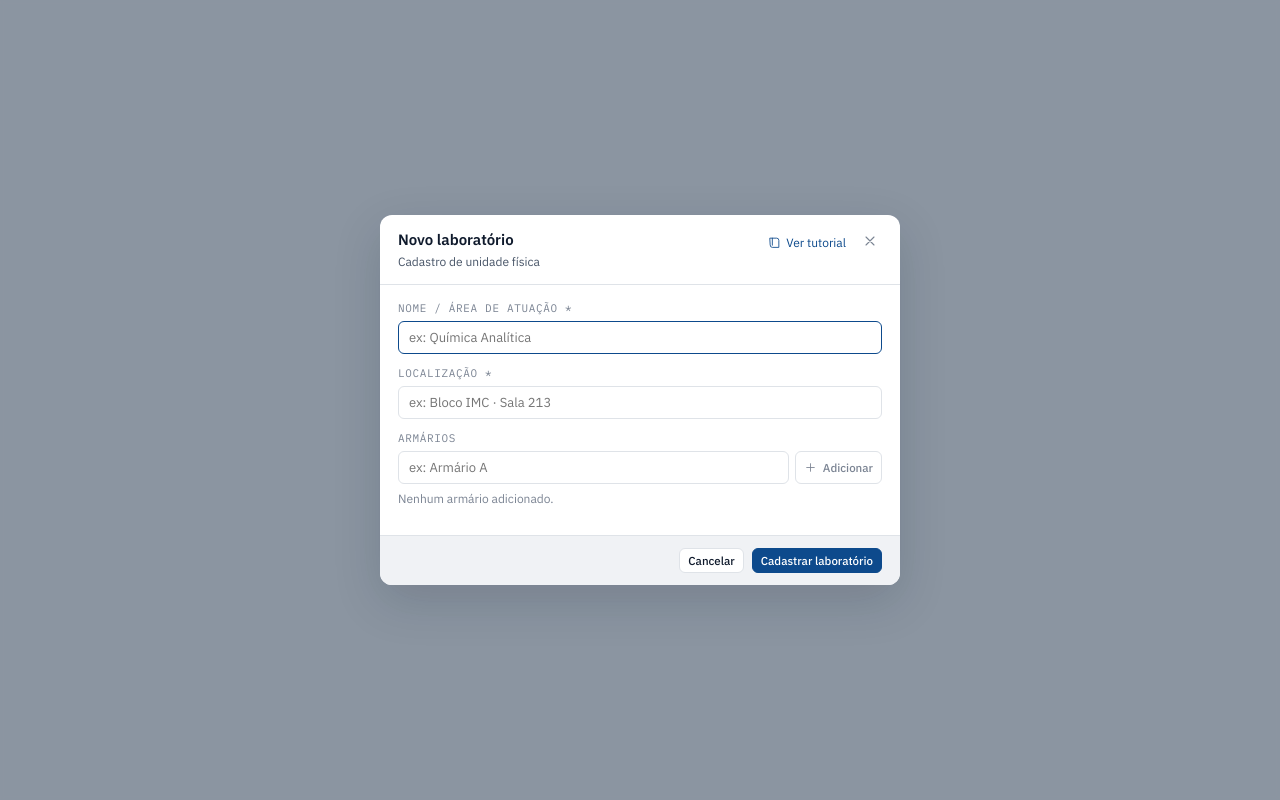
Scenario: FormNovoLab — entradas inválidas › lista os armários adicionados e remove um deles
Expected: the text "Nenhum armário adicionado." is shown, [398,491,554,506]
Type "Armário A" into the field labelled "Armários" at (593, 467), box [398,451,789,484]
Then press Enter
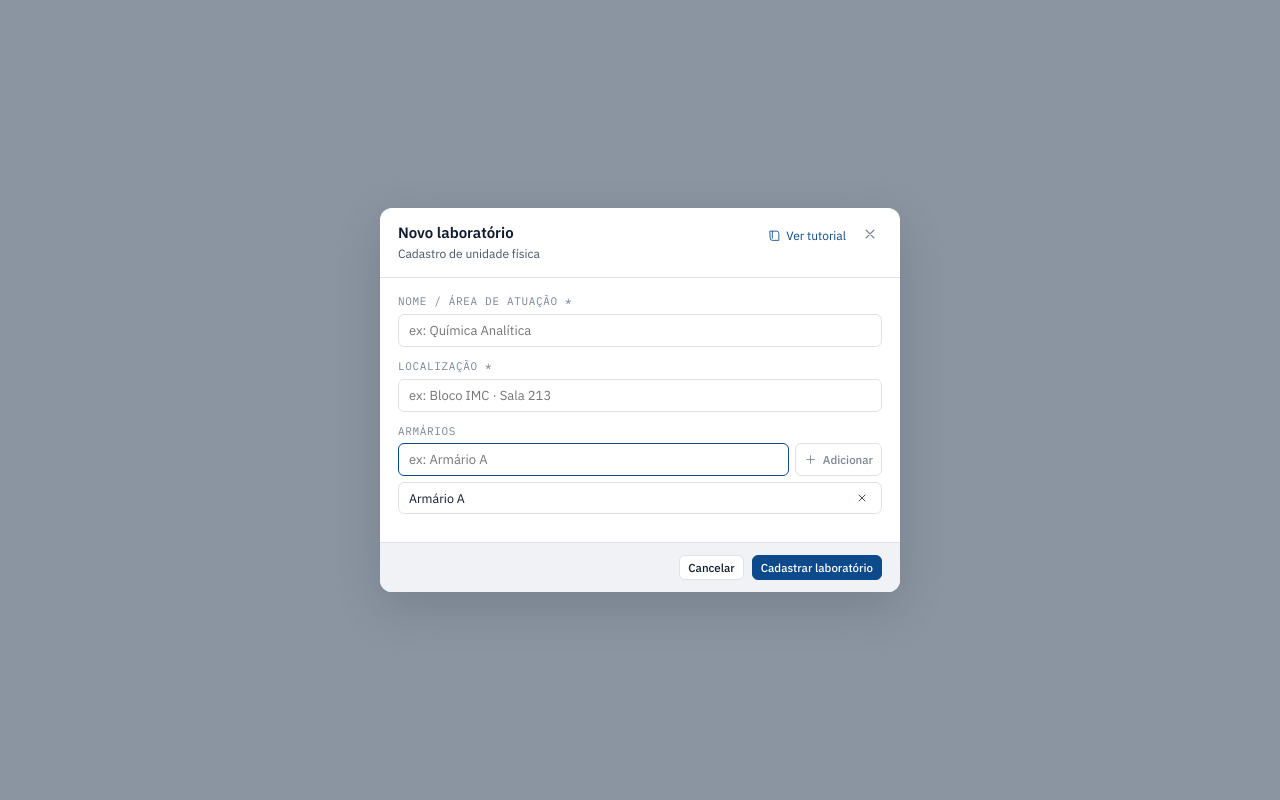
Type "Armário B" into the field labelled "Armários" at (593, 460), box [398,444,789,476]
Then press Enter
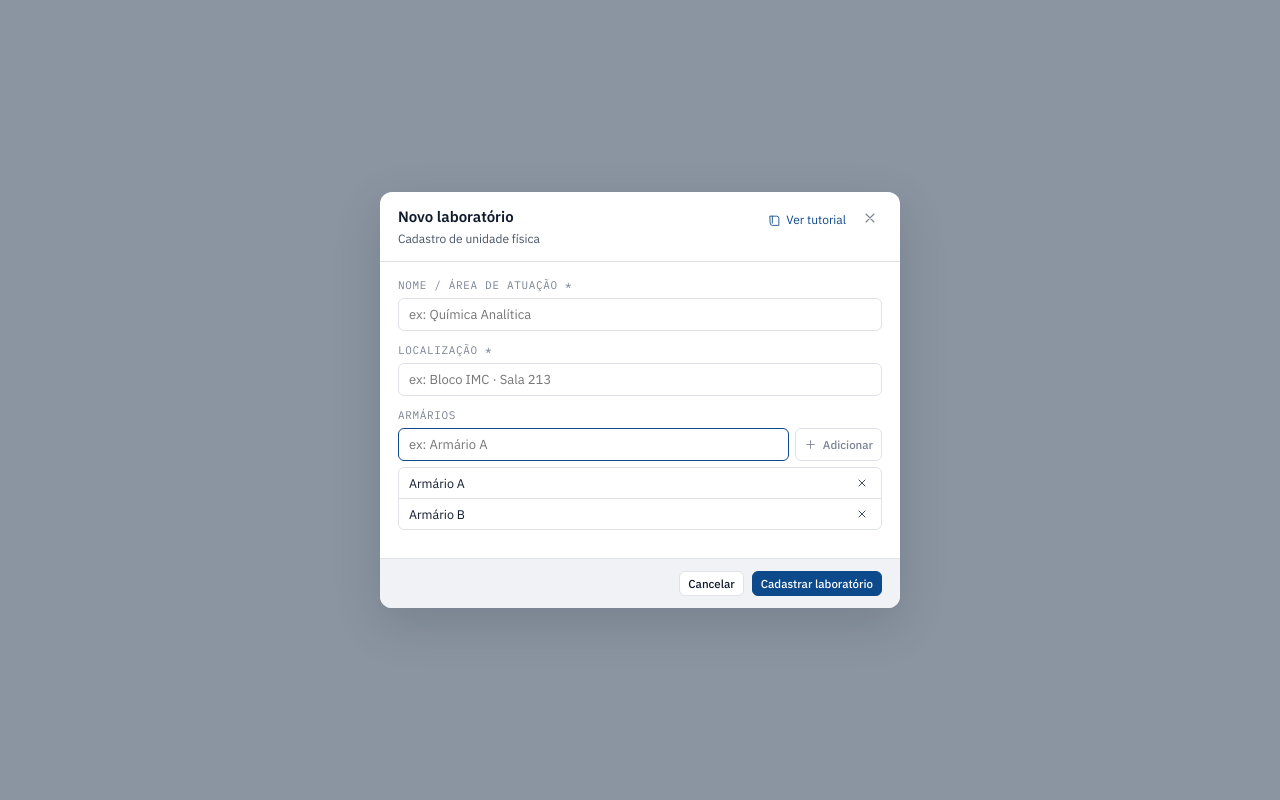
Expected: the field labelled "Armários" is empty, [398,428,789,461]
Expected: the list items read "Armário A", "Armário B", in this order, [399,468,881,498]; [399,498,881,529]
Click the button named "Remover Armário A" at (862, 483), box [847,472,877,494]
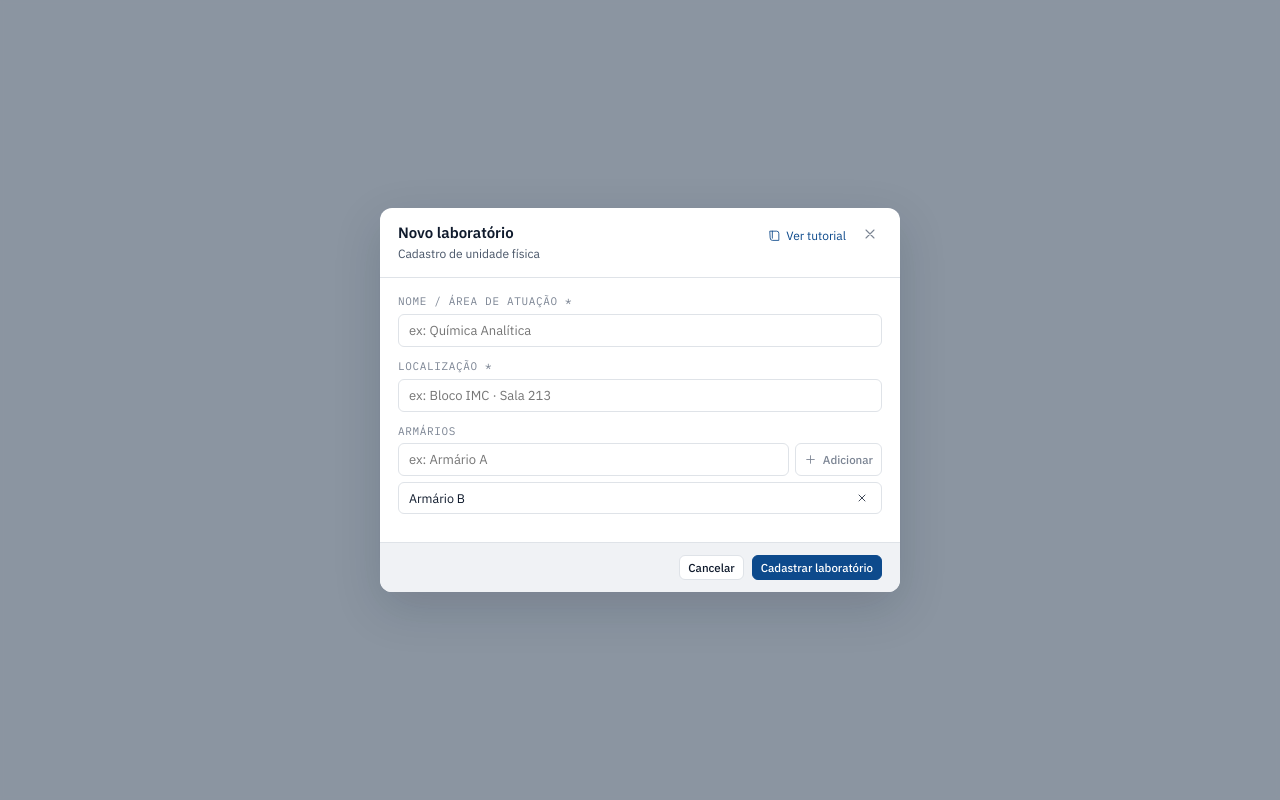
Expected: the list items read "Armário B", in this order, [399,484,881,514]
